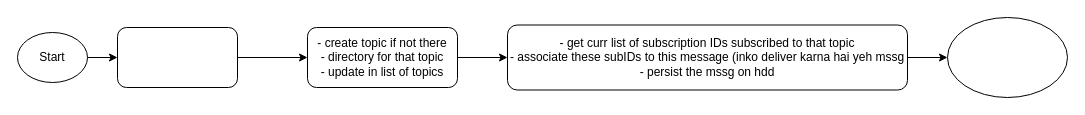
Some shapes in this 1085 by 115 pixel diagram are drawn without their labels. Each missing label, with the centre of its shape:
"new mssg received" goes at [177,57].
"send back ACK to producer" goes at [1007,57].
